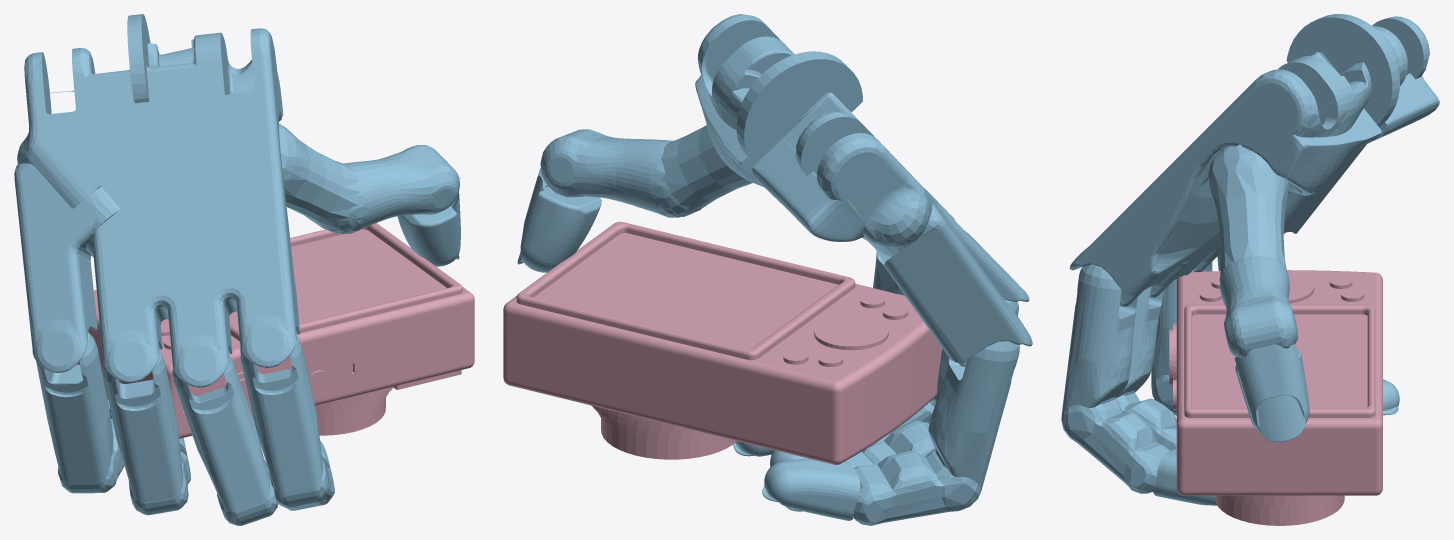
File: ShadowHand_contactdb+camera_mesh.glb
3 renders of one model, left to right at view 1: azimuth 30°, elevation 25°; view 2: azimuth 150°, elevation 25°; view 3: azimuth 270°, elevation 25°, orthographic. The views are drawn at different scales.
Parts seen in each view (by area): view 1: world; view 2: world; view 3: world.
Boxes of the visible parts, box(x1,y1,x2,y2) form: world: box(14, 14, 474, 525); world: box(503, 14, 1032, 525); world: box(1061, 14, 1439, 525).
Size of the model in its own units: 0.1608 by 0.1535 by 0.1188.
